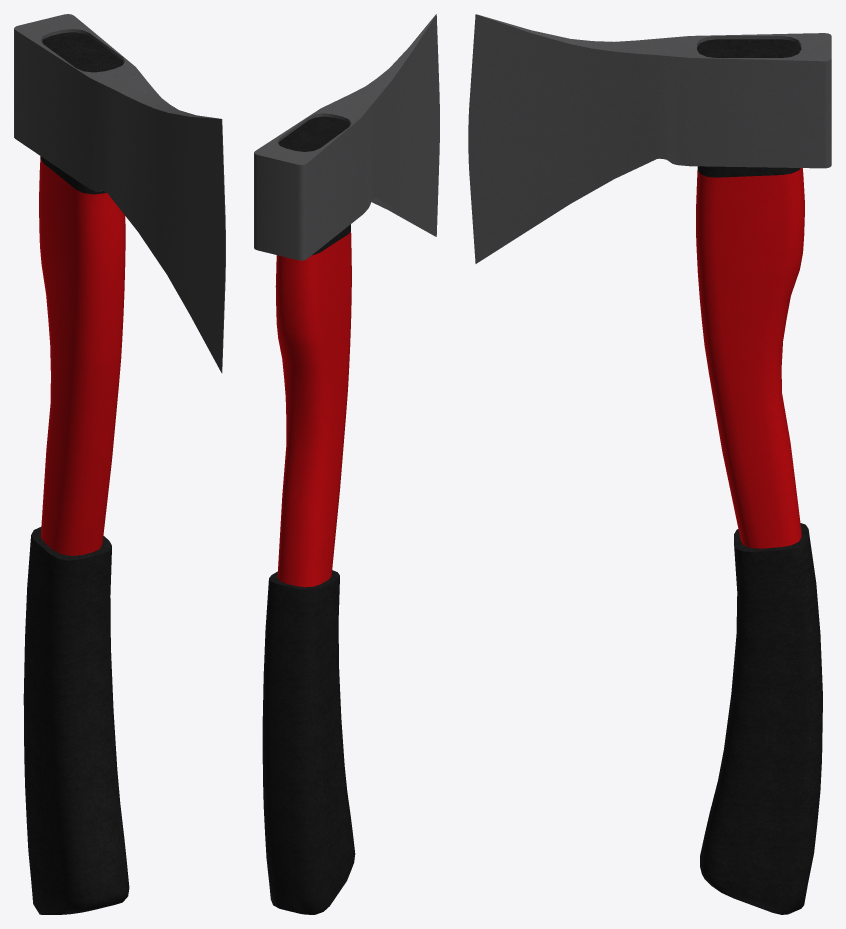
The model's file is axe.obj.
3 renders of one model, left to right at view 1: azimuth 30°, elevation 25°; view 2: azimuth 150°, elevation 25°; view 3: azimuth 270°, elevation 25°, orthographic. The views are drawn at different scales.
Parts seen in each view (by area): view 1: axe; view 2: axe; view 3: axe.
Boxes of the visible parts, x1,y1,x2,y2 form: axe: [14, 14, 225, 914]; axe: [254, 14, 439, 914]; axe: [468, 14, 831, 914].
Bounding box in the file's own units: 0.0248 × 0.3634 × 0.1342.
Materials: 1 (1 with a texture image).
